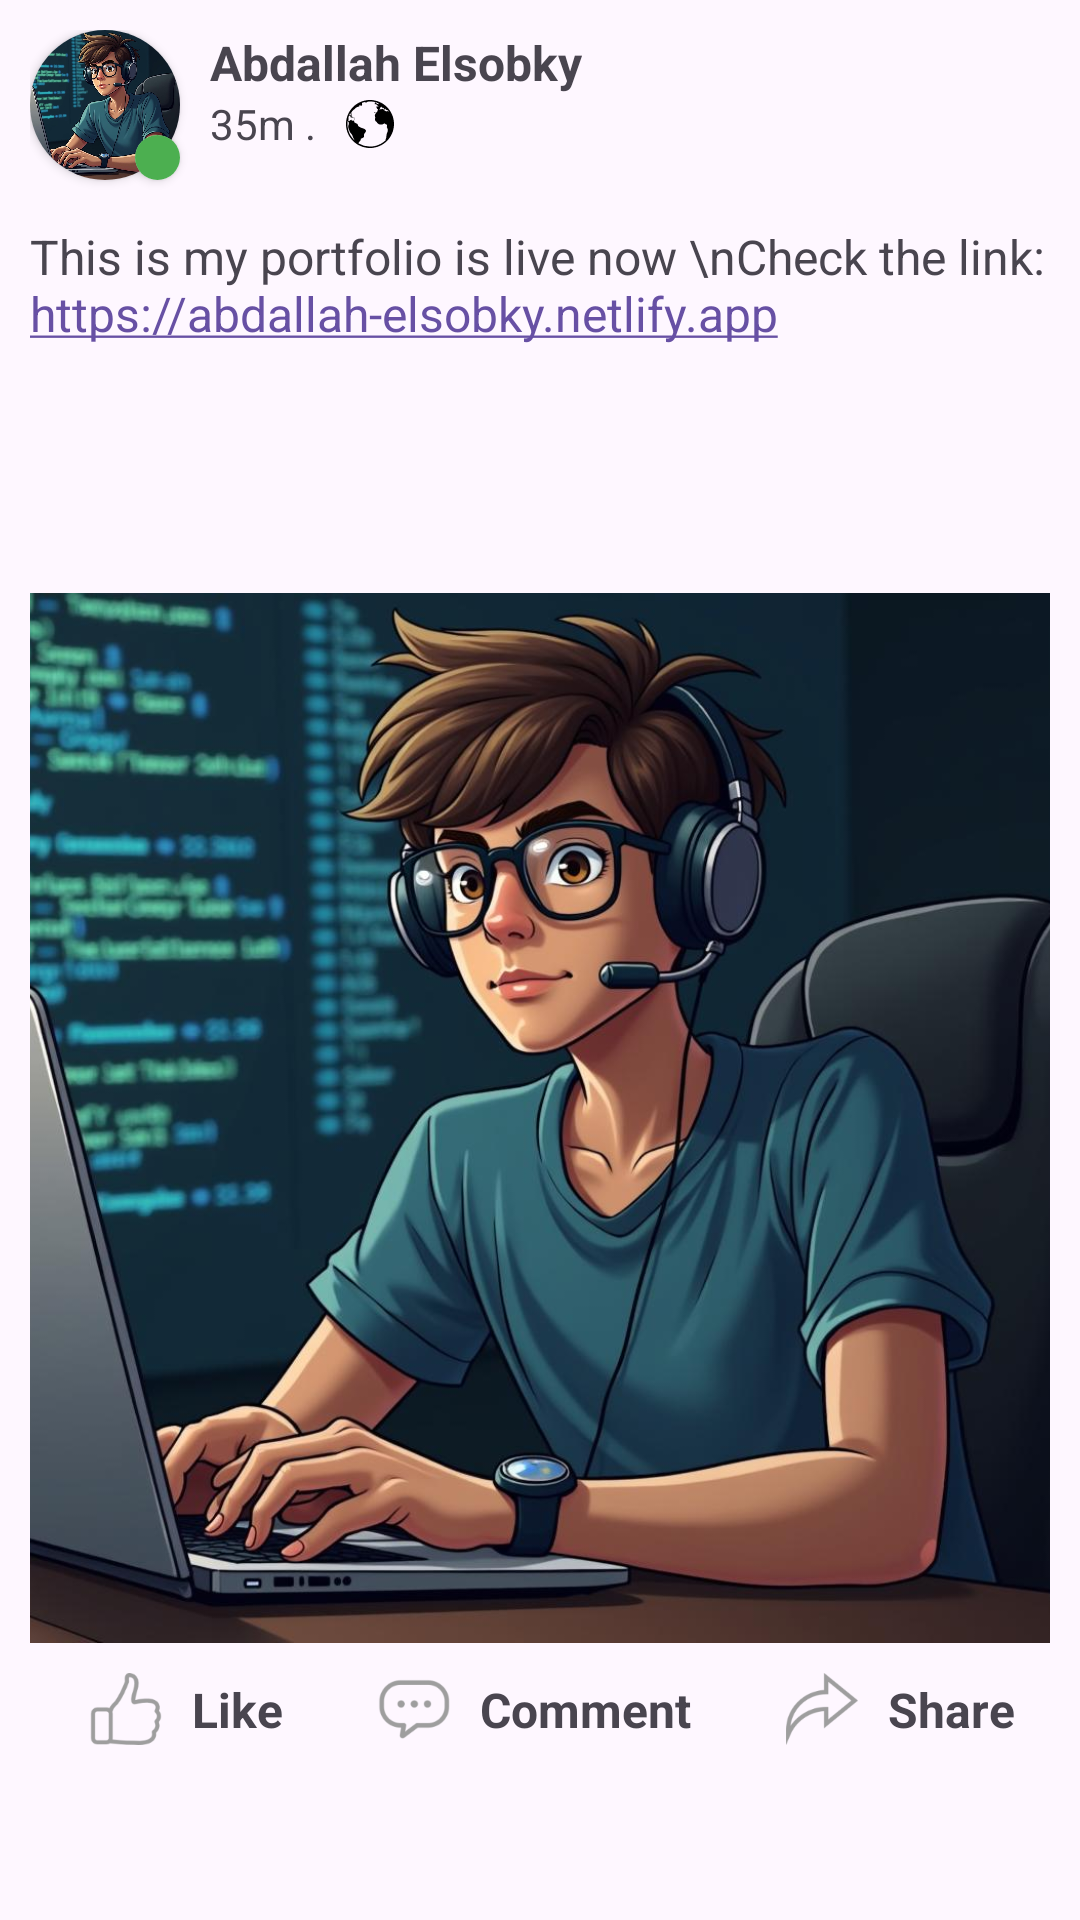

Icons on this 1080×1920 Android screen, each with its box as (x1, y1, x2, y2):
earth: (346, 100, 394, 148)
